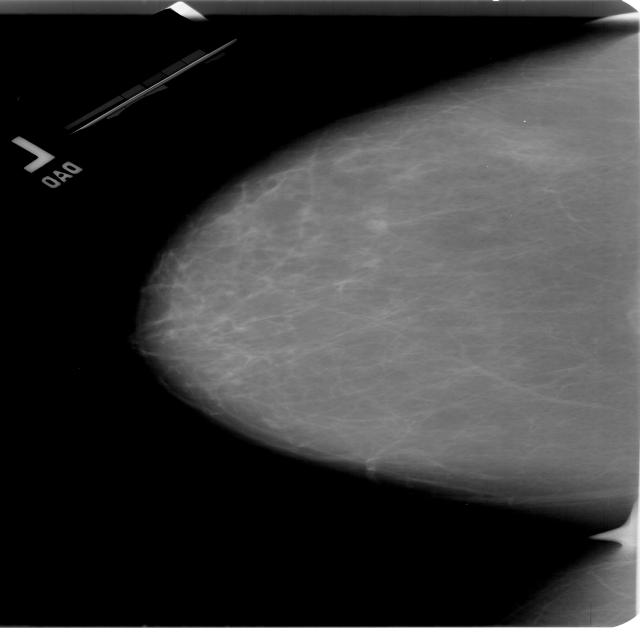normal: (135, 65, 640, 509)
